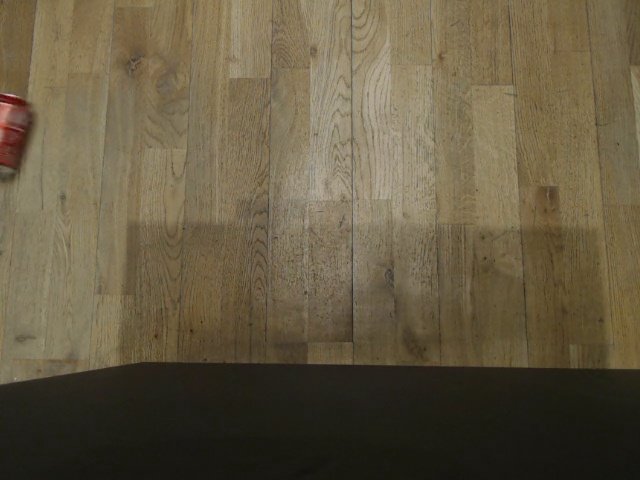coke: (0, 90, 34, 175)
